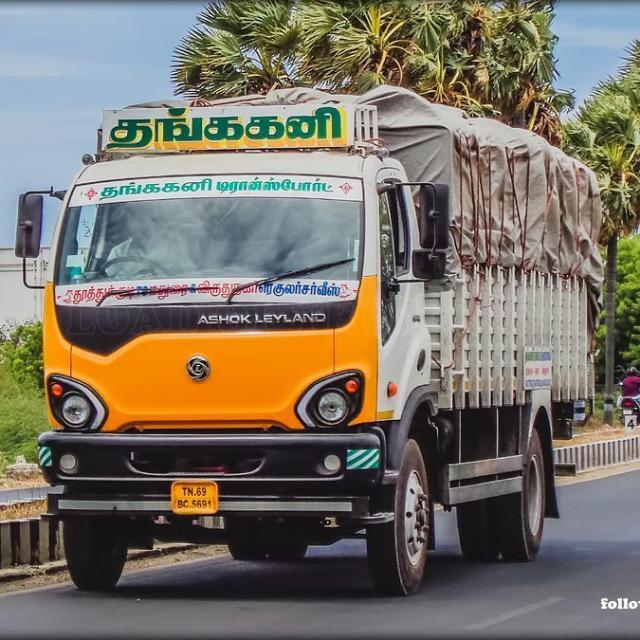Truck: (13, 95, 590, 609)
